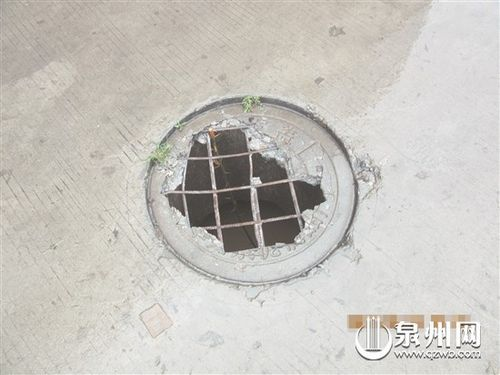broke: (121, 82, 390, 305)
